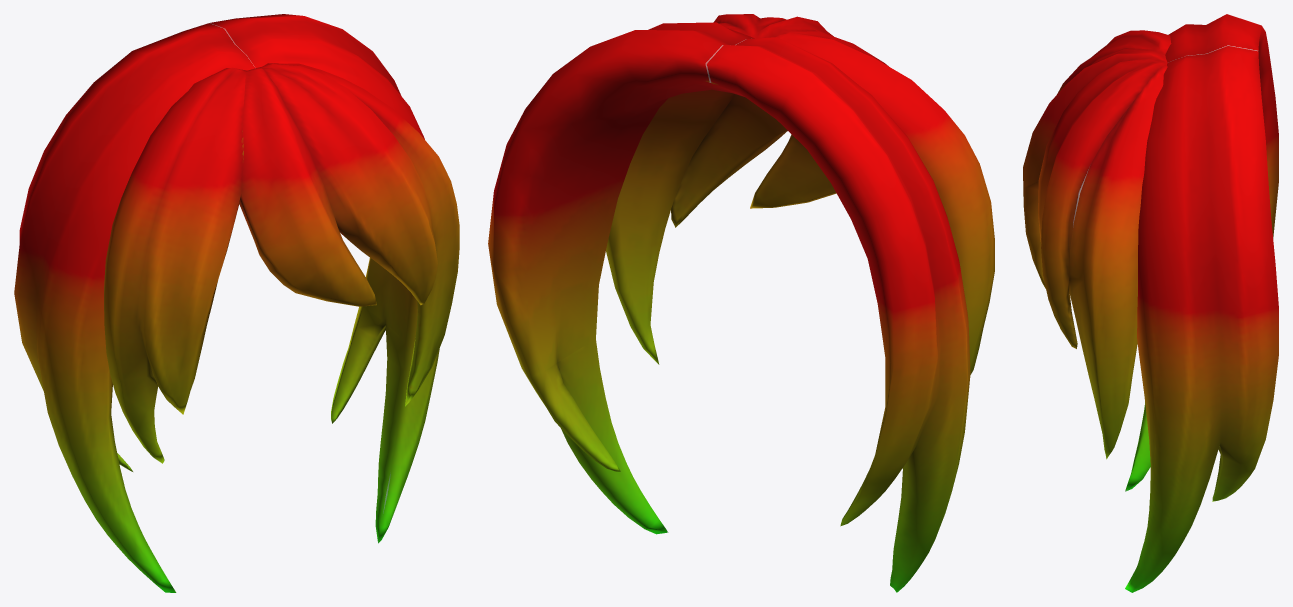
Rendered from HairFront_BangsSideFlicks.obj.
3 views of the same model, side by side, from view 1: azimuth 30°, elevation 25°; view 2: azimuth 150°, elevation 25°; view 3: azimuth 270°, elevation 25° (orthographic). The views are drawn at different scales.
Visible parts, largest first — view 1: HairFront_BangsSideFlicks_0; view 2: HairFront_BangsSideFlicks_0; view 3: HairFront_BangsSideFlicks_0.
Part boxes in pixels (<box>): HairFront_BangsSideFlicks_0: <box>14,14,459,592</box>; HairFront_BangsSideFlicks_0: <box>488,14,994,592</box>; HairFront_BangsSideFlicks_0: <box>1023,14,1278,592</box>.
Size of the model in its own units: 0.2279 by 0.2721 by 0.1264.
1 material, 1 textured.
